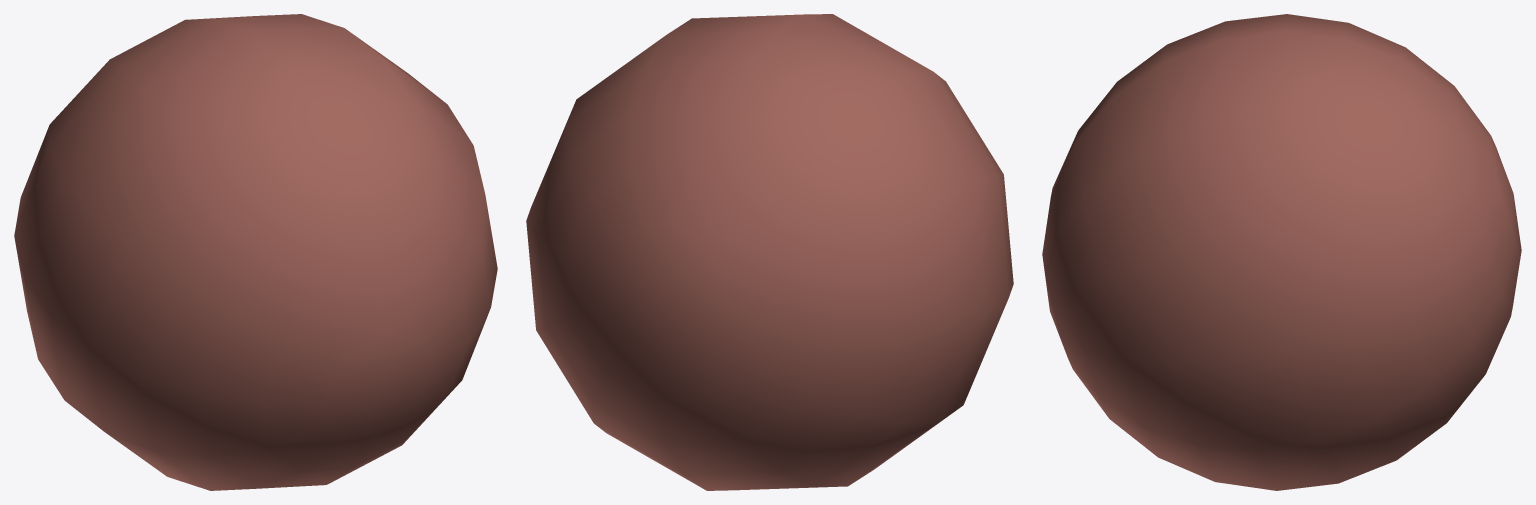
The model's file is mixamo_humanoid_joint_leftHandThumb3.fbx.
3 views of the same model, side by side, from view 1: azimuth 30°, elevation 25°; view 2: azimuth 150°, elevation 25°; view 3: azimuth 270°, elevation 25° (orthographic). The views are drawn at different scales.
Visible parts, largest first — view 1: joint_LeftHandThumb3; view 2: joint_LeftHandThumb3; view 3: joint_LeftHandThumb3.
Boxes of the visible parts, x1,y1,x2,y2 form: joint_LeftHandThumb3: (14, 14, 497, 490); joint_LeftHandThumb3: (526, 14, 1013, 490); joint_LeftHandThumb3: (1042, 14, 1521, 490).
Bounding box in the file's own units: 1.63 × 1.63 × 1.63.
